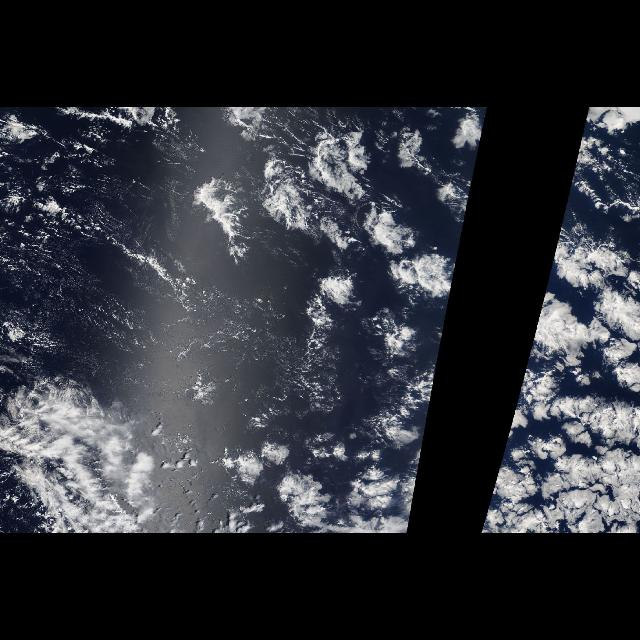Flower: (192, 108, 488, 532), (480, 108, 640, 532)
Sugar: (18, 174, 152, 373)
